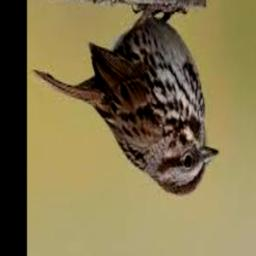Sparrow: (34, 2, 218, 196)
